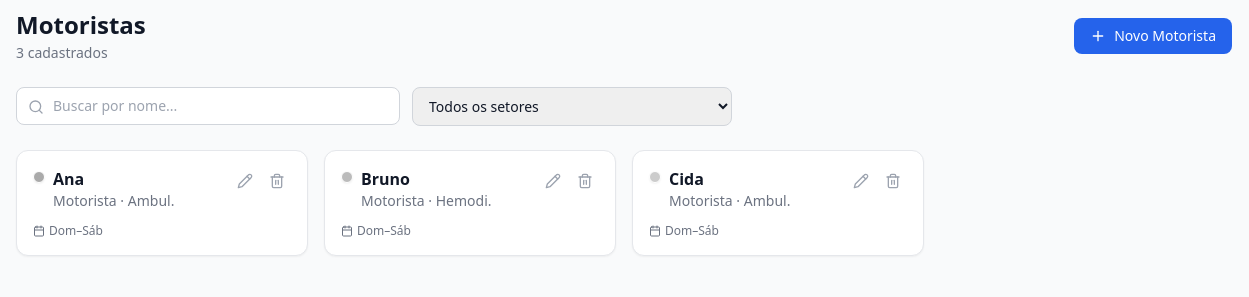
Test: EmployeesPage — combinação nome + setor (AND) › nome "Ana" + setor "Transporte Hemodiálise" retorna resultado vazio
In the field with placeholder "Buscar por nome...": (208, 106) 16,87 -> 400,125, type "Ana"
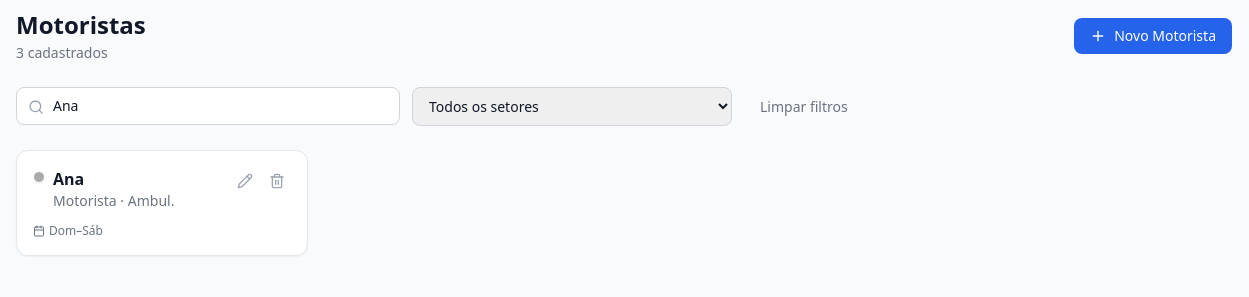
Select "Transporte Hemodiálise" in the dropdown named "Filtrar por setor": (572, 106) 412,87 -> 732,126
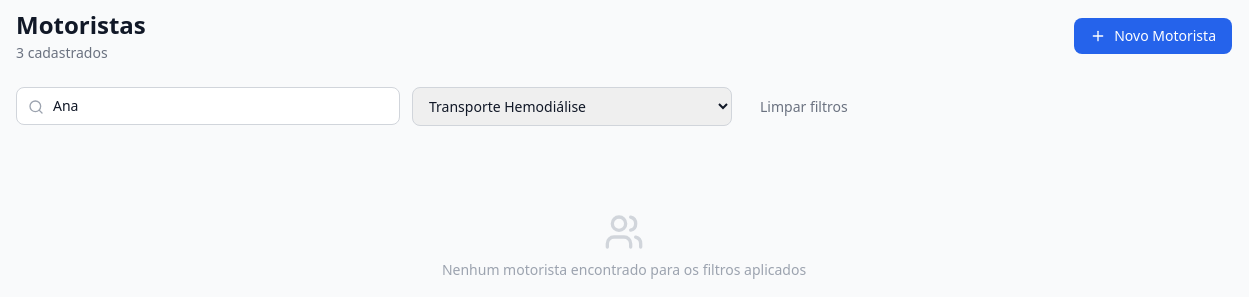
Now the text "Nenhum motorista encontrado para os filtros aplicados" is shown, box 442,260 -> 806,280
